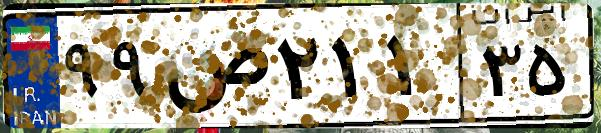1: (385, 28, 445, 110), (330, 28, 385, 110)
2: (270, 28, 330, 110)
3: (475, 38, 525, 113)
5: (525, 38, 570, 115)
9: (57, 26, 110, 100), (110, 28, 158, 98)
ص: (158, 20, 270, 120)
